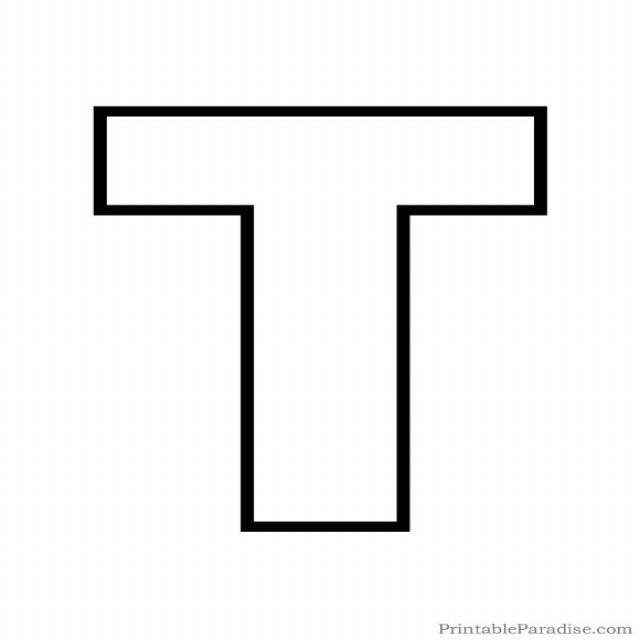T: (77, 26, 564, 578)
